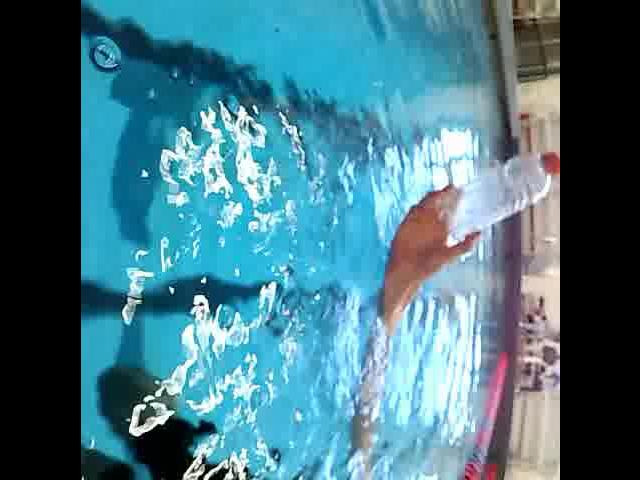Bottle: (434, 149, 560, 247)
